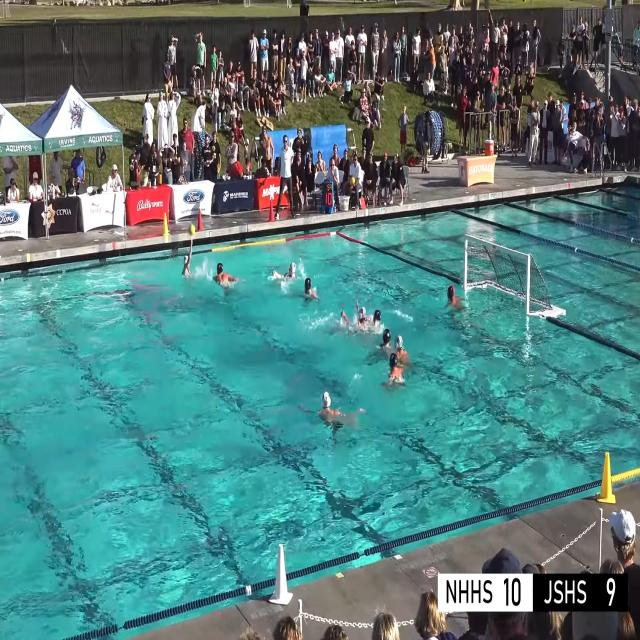ball: (189, 224, 195, 235), (350, 177, 355, 184)
